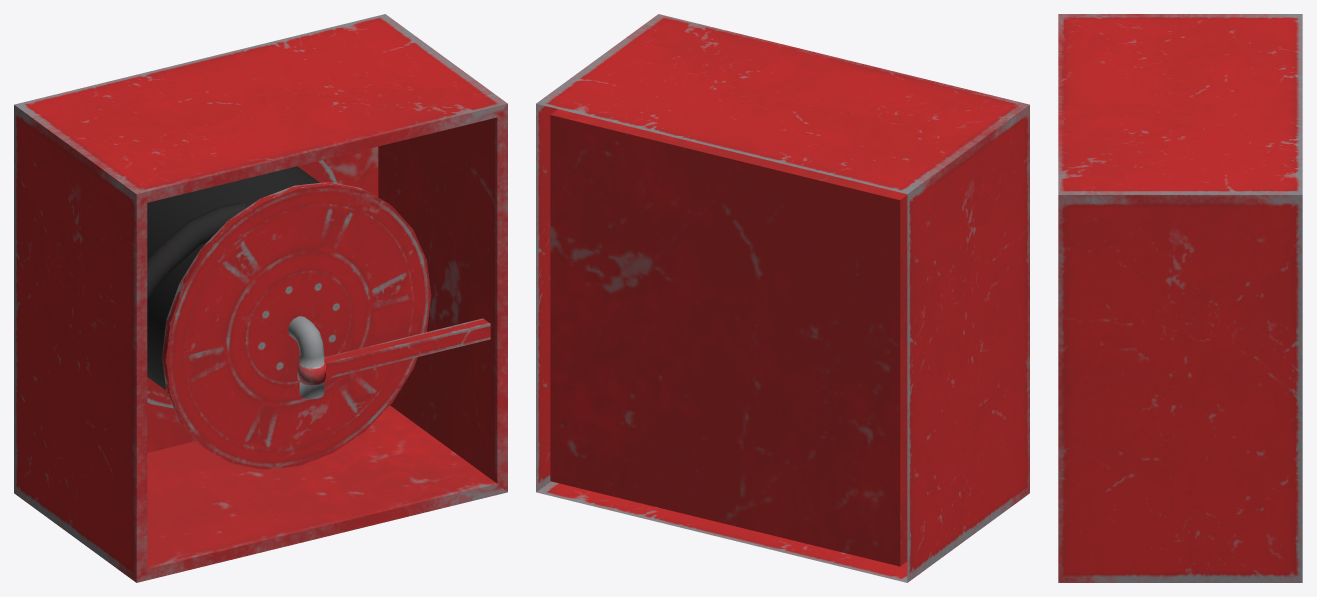
Rendered from SM_FireHoseReel_FireHoseReel.fbx.
3 renders of one model, left to right at view 1: azimuth 30°, elevation 25°; view 2: azimuth 150°, elevation 25°; view 3: azimuth 270°, elevation 25°, orthographic.
Parts seen in each view (by area): view 1: SM_FireHoseReel_FireHoseReel_LOD0; view 2: SM_FireHoseReel_FireHoseReel_LOD0; view 3: SM_FireHoseReel_FireHoseReel_LOD0.
Part boxes in pixels (x1,y1,x2,y2): SM_FireHoseReel_FireHoseReel_LOD0: [14, 14, 507, 582]; SM_FireHoseReel_FireHoseReel_LOD0: [536, 14, 1029, 582]; SM_FireHoseReel_FireHoseReel_LOD0: [1058, 14, 1302, 582].
Bounding box in the file's own units: 70 × 40 × 70.
Materials: 1 (1 with a texture image).
